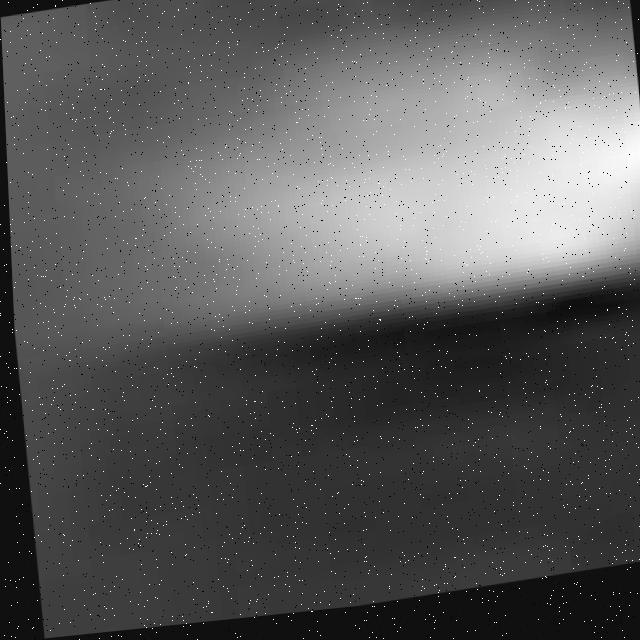person: (85, 1, 640, 361)
